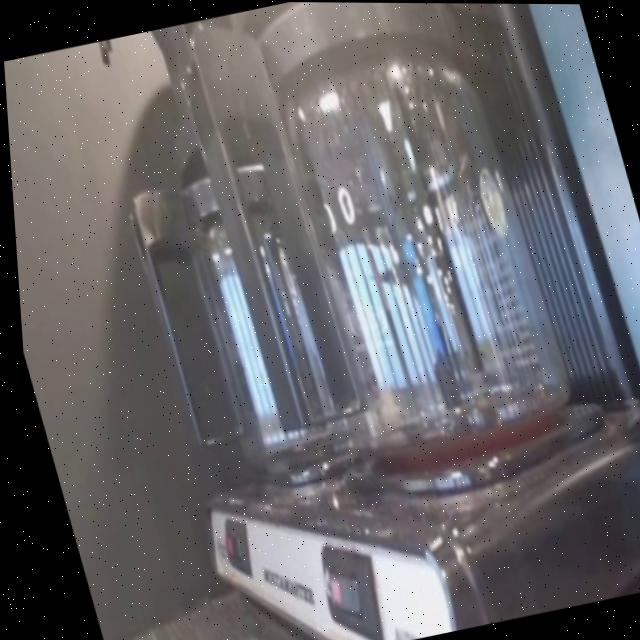nocoffee: (264, 70, 572, 462), (164, 217, 333, 473)
